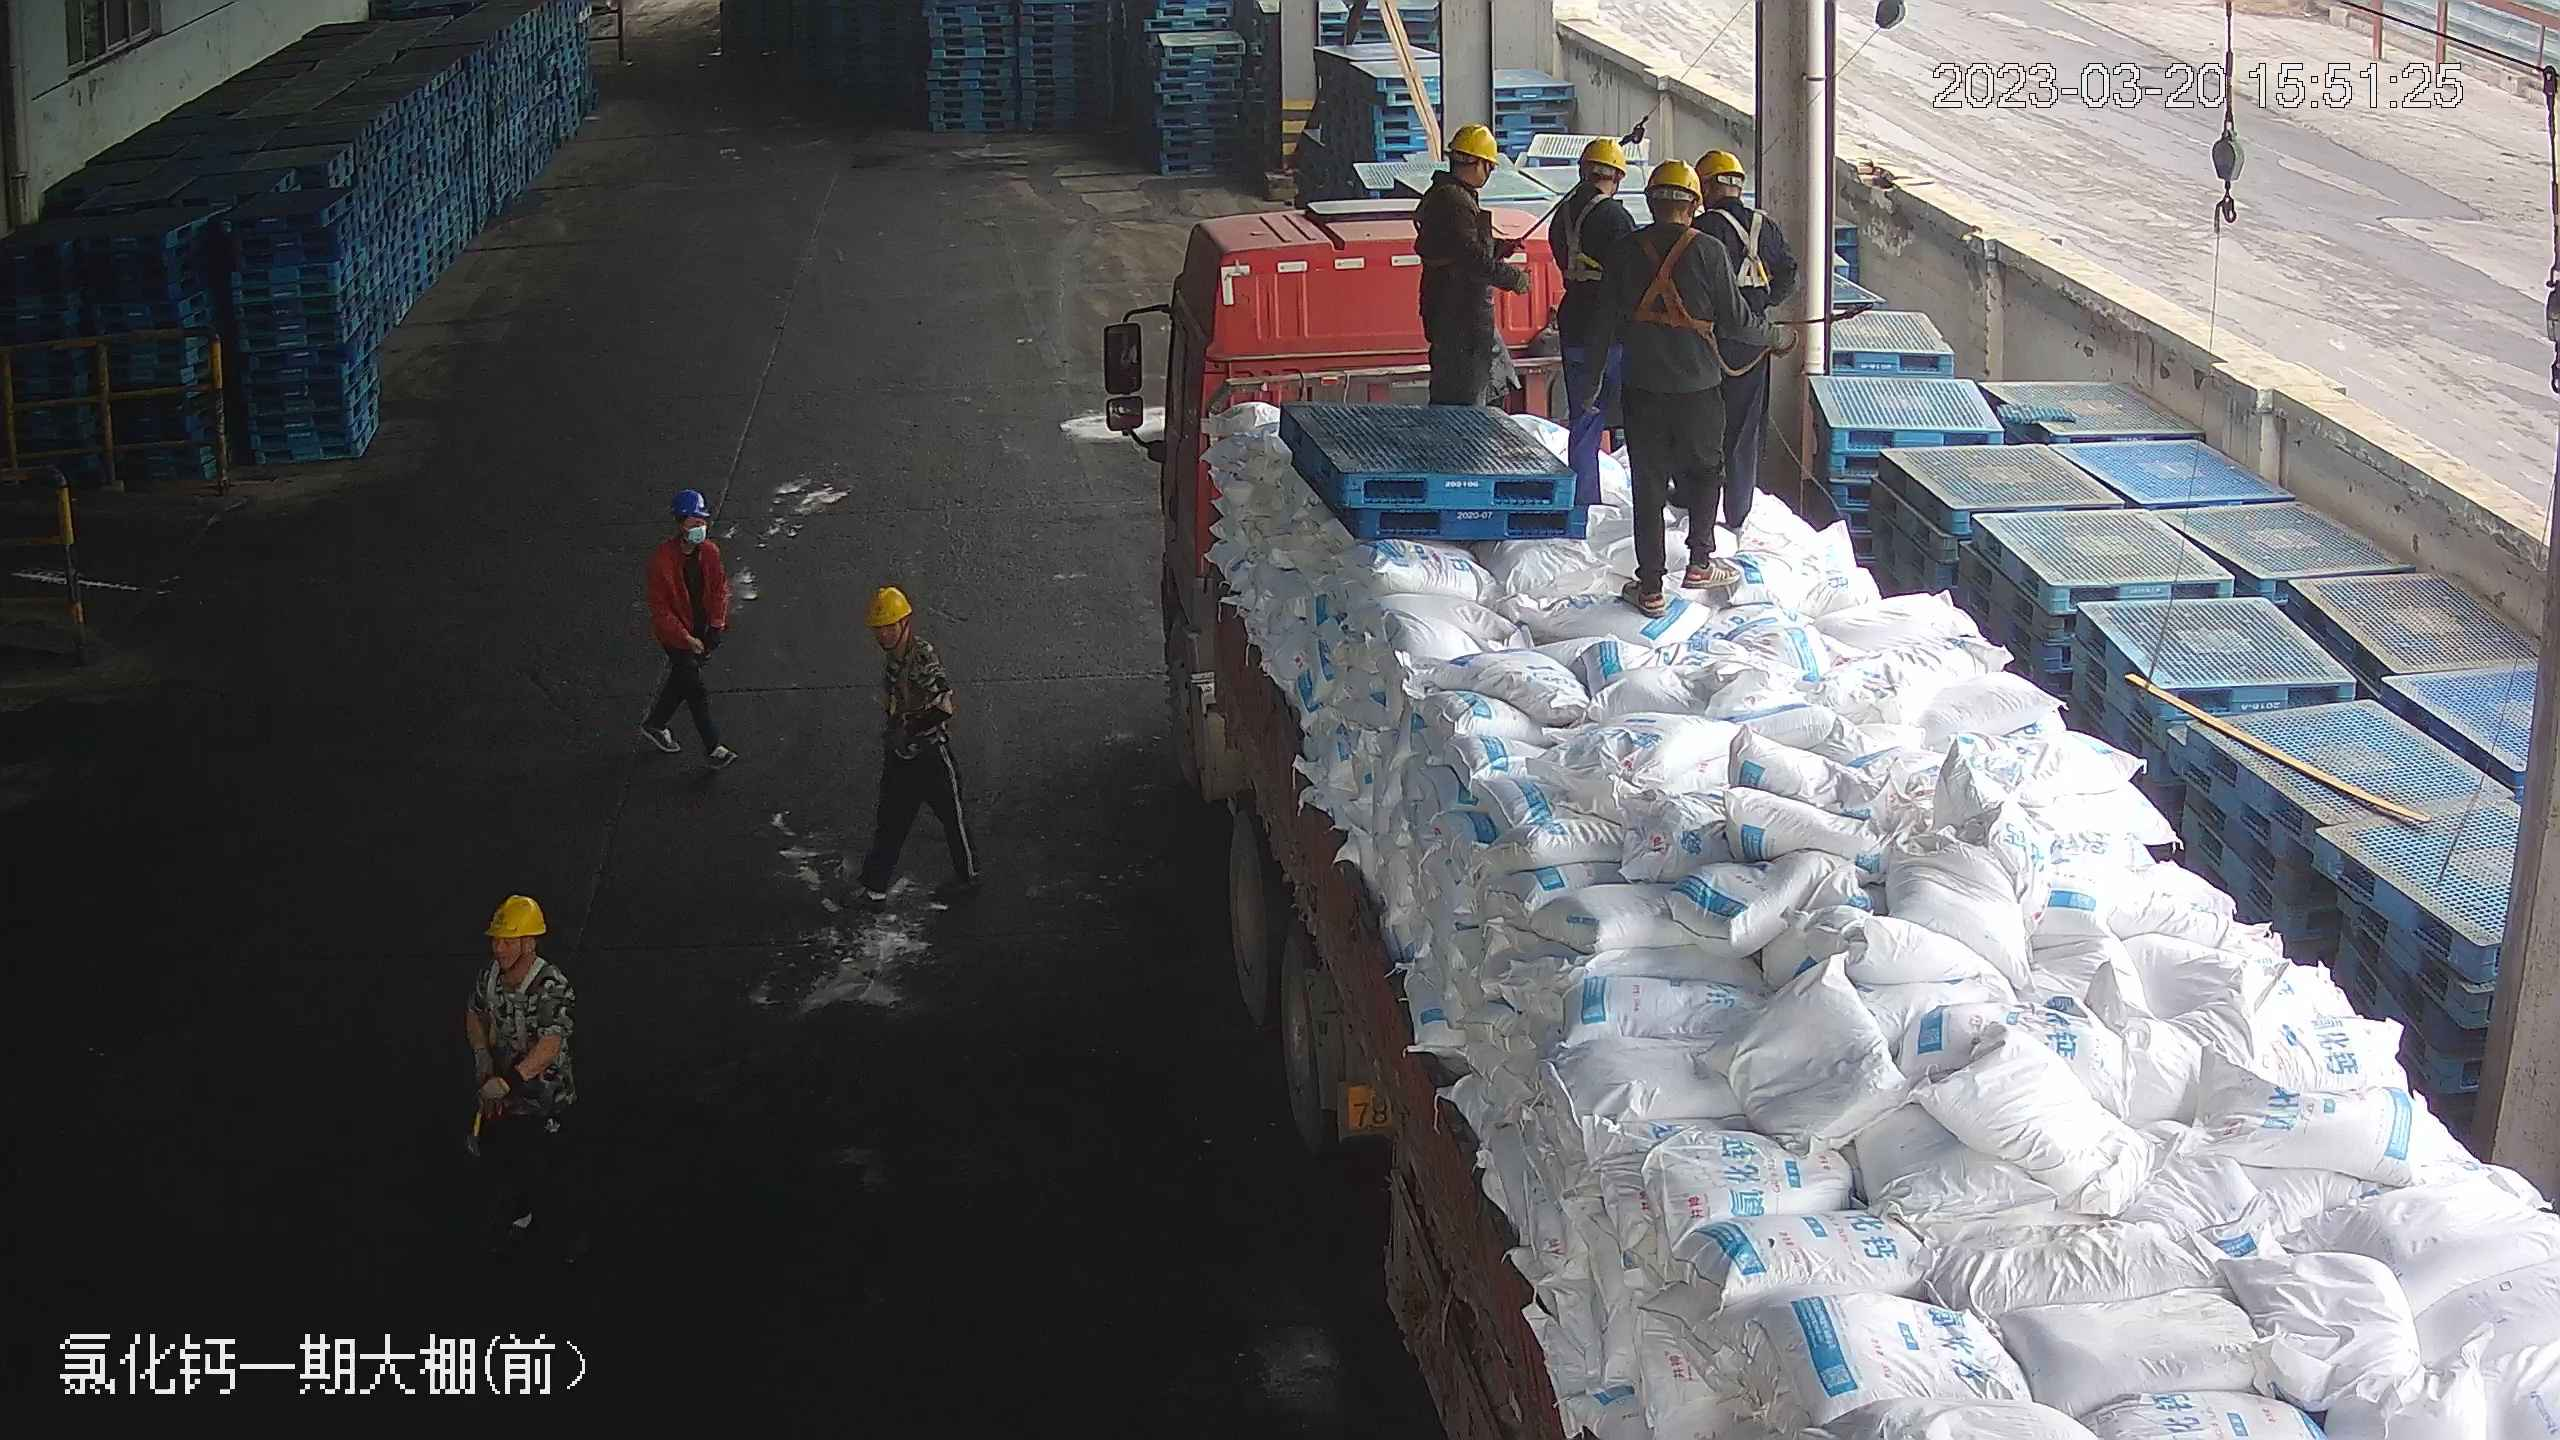belt: (1626, 225, 1727, 338), (481, 954, 549, 1062), (1702, 202, 1775, 288), (879, 630, 946, 720), (1554, 192, 1624, 276), (1422, 177, 1485, 244)
head: (457, 894, 579, 1049), (1616, 157, 1741, 299), (1678, 149, 1778, 260), (1412, 124, 1506, 237), (858, 583, 951, 698), (1553, 136, 1641, 247), (650, 488, 730, 570)
helmet: (486, 894, 549, 938), (1446, 122, 1499, 162), (1646, 155, 1701, 194), (864, 584, 913, 625), (1579, 136, 1627, 171), (1697, 147, 1743, 179), (673, 485, 709, 516)
people: (1589, 156, 1767, 610), (454, 894, 580, 1268), (839, 582, 975, 909), (1543, 130, 1652, 509), (637, 488, 744, 778), (1411, 125, 1519, 411)
truck: (1104, 163, 2509, 1440)
